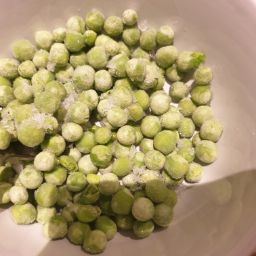Peas: (6, 8, 215, 253), (79, 94, 145, 192), (5, 95, 68, 188), (157, 25, 222, 110), (157, 119, 228, 189), (76, 11, 146, 72), (15, 30, 53, 86), (128, 194, 177, 236), (72, 219, 109, 255), (6, 208, 39, 228)
